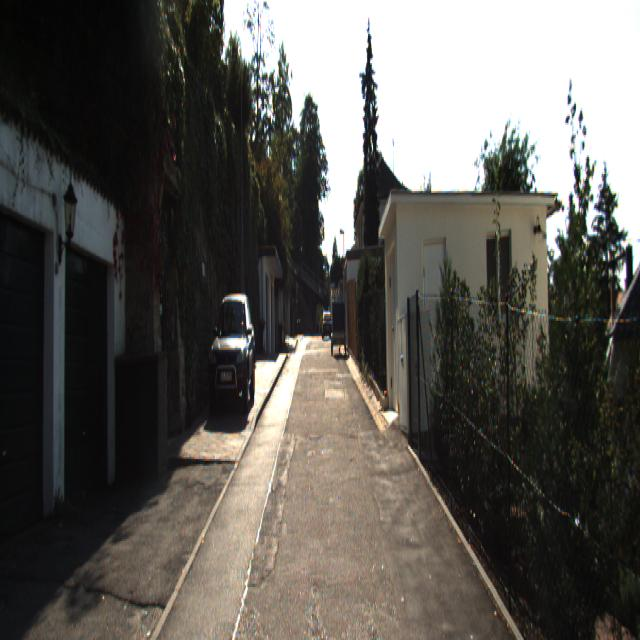Car: (206, 300, 258, 416)
DontCare: (316, 300, 329, 350)
Misc: (330, 299, 347, 356)
